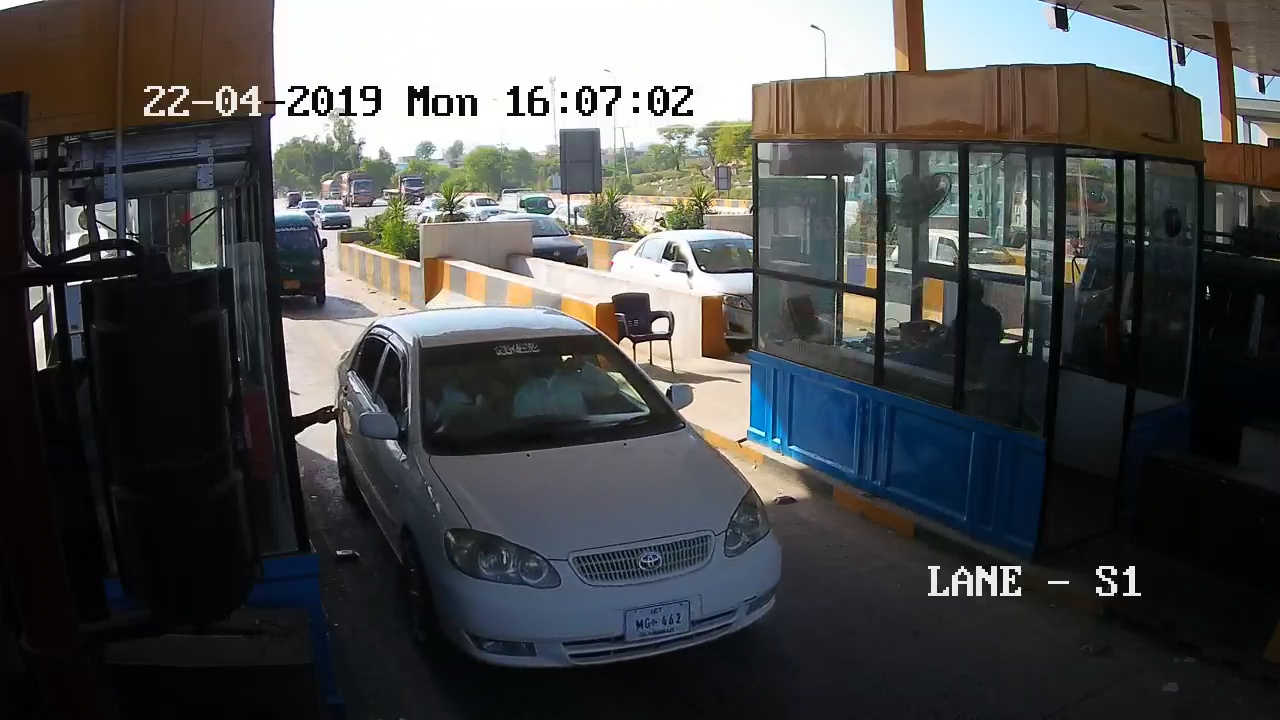Number Plate (Car): (623, 597, 691, 641)
